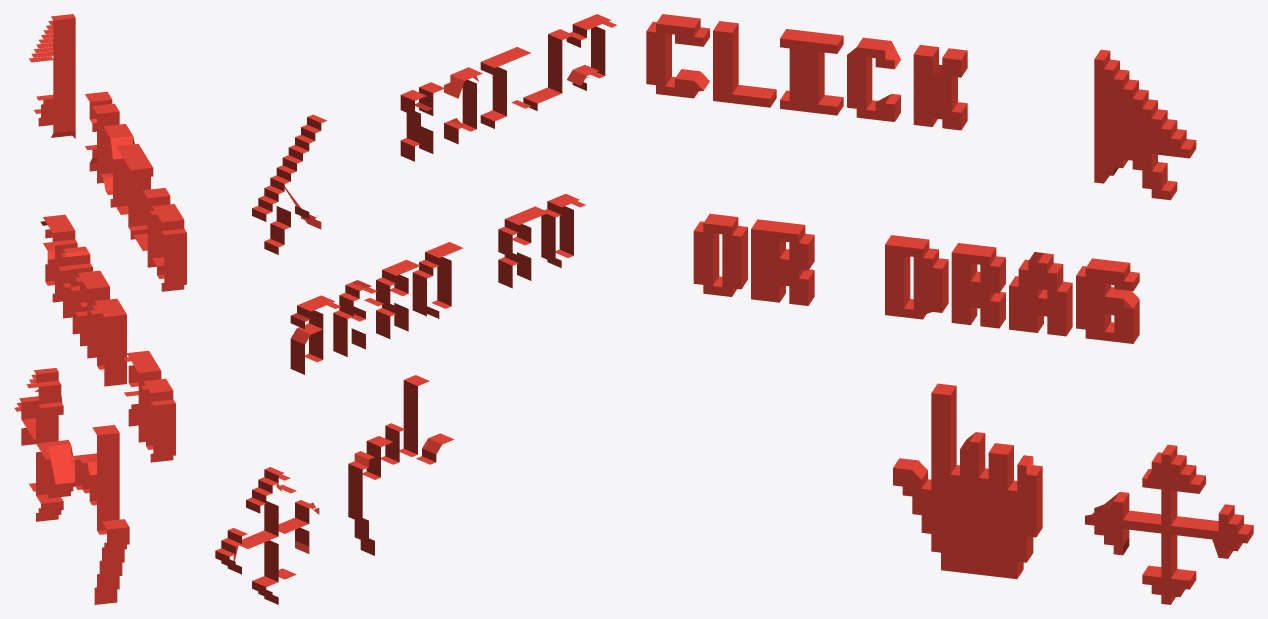
Rendered from compressed_HologramHelper.glb.
3 renders of one model, left to right at view 1: azimuth 30°, elevation 25°; view 2: azimuth 150°, elevation 25°; view 3: azimuth 270°, elevation 25°, orthographic. The views are drawn at different scales.
Parts seen in each view (by area): view 1: Hologram; view 2: Hologram; view 3: Hologram.
Part boxes in pixels (x1=…): Hologram: x1=14, y1=14, x2=186, y2=604; Hologram: x1=215, y1=14, x2=616, y2=604; Hologram: x1=646, y1=14, x2=1253, y2=604.
Bounding box in the file's own units: 1.36 × 4.16 × 4.26.
